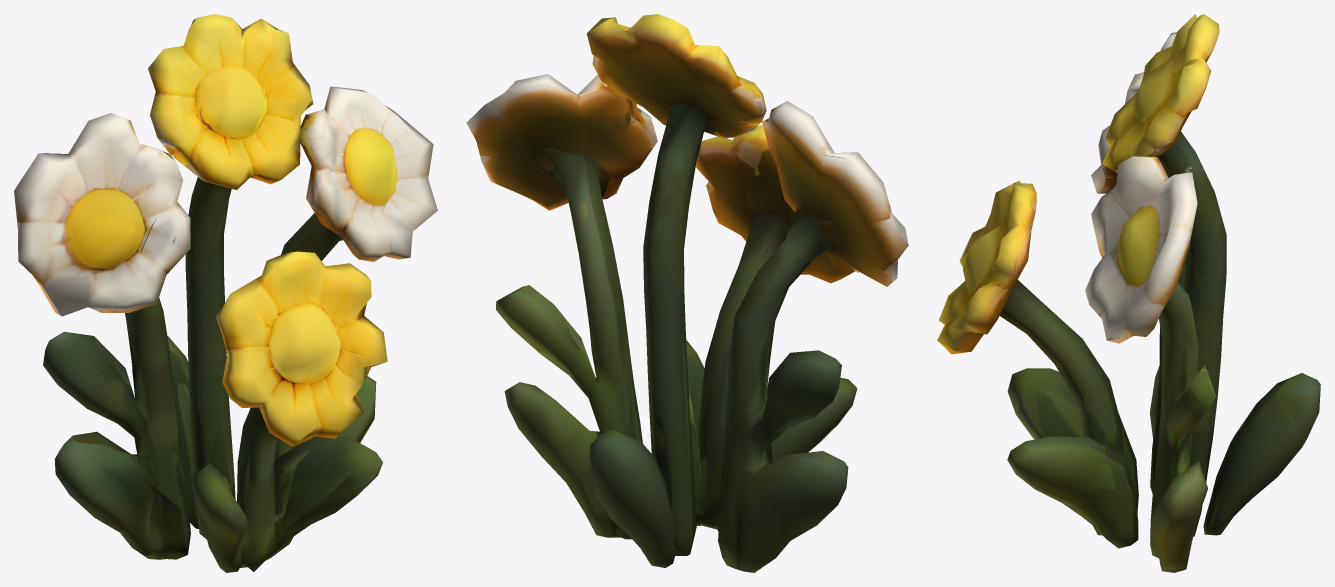
File: florres.fbx
3 renders of one model, left to right at view 1: azimuth 30°, elevation 25°; view 2: azimuth 150°, elevation 25°; view 3: azimuth 270°, elevation 25°, orthographic. The views are drawn at different scales.
Visible parts, largest first — view 1: Retopo_model; view 2: Retopo_model; view 3: Retopo_model.
Part boxes in pixels (left/top/right/bottom): Retopo_model: left=14, top=14, right=437, bottom=572; Retopo_model: left=466, top=14, right=908, bottom=572; Retopo_model: left=937, top=14, right=1320, bottom=572.
Size of the model in its own units: 152 by 181 by 121.
Materials: 1 (1 with a texture image).
